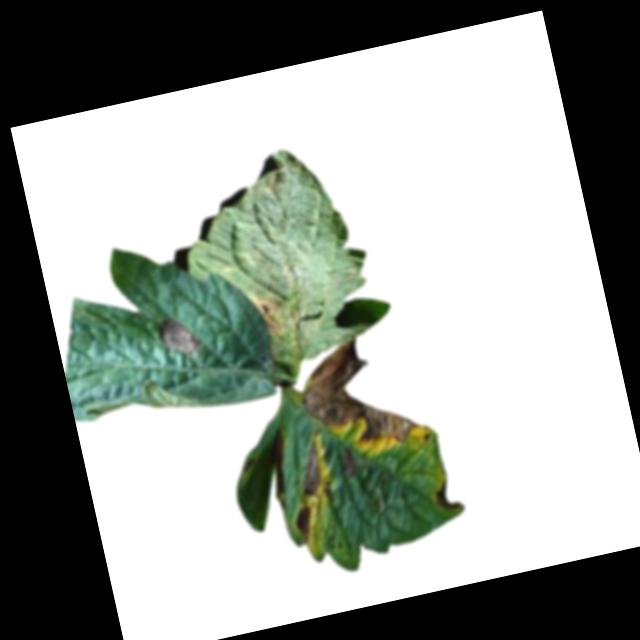Early_blight: (296, 328, 421, 464), (152, 312, 201, 362), (291, 441, 329, 502), (253, 296, 287, 342), (429, 477, 464, 517), (290, 501, 318, 545), (332, 447, 362, 483)
